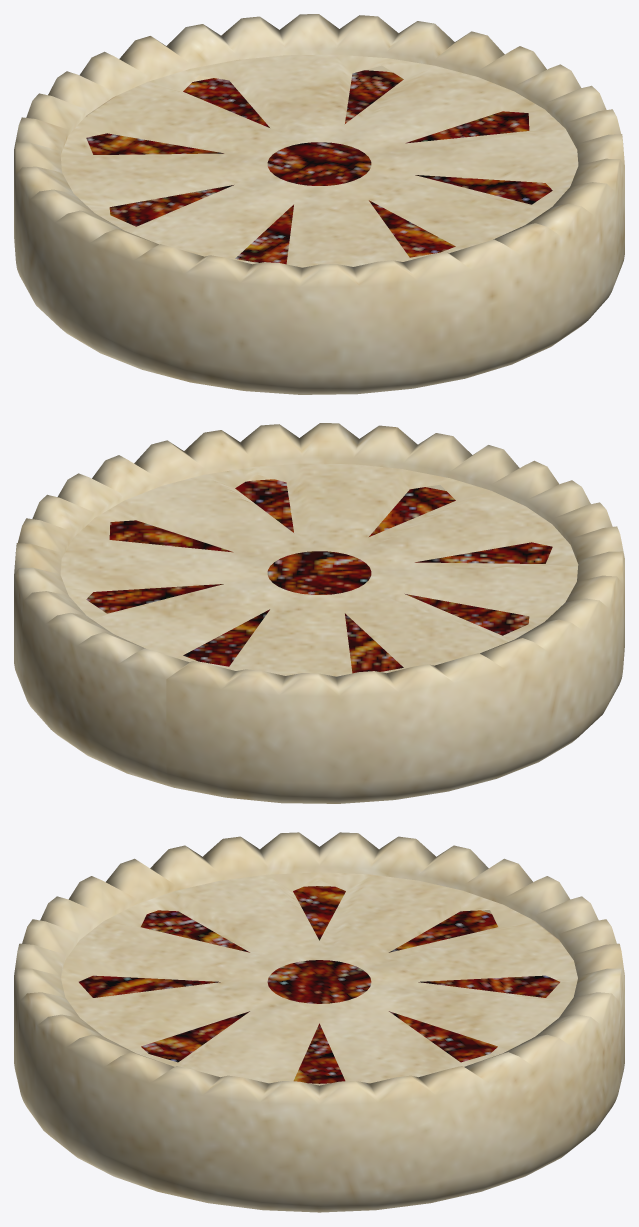
The model's file is VFX_WholePieDiamond.fbx.
3 renders of one model, top to bottom at view 1: azimuth 30°, elevation 25°; view 2: azimuth 150°, elevation 25°; view 3: azimuth 270°, elevation 25°, orthographic.
Visible parts, largest first — view 1: Pie Whole Diamonds; view 2: Pie Whole Diamonds; view 3: Pie Whole Diamonds.
Part boxes in pixels (x1=…): Pie Whole Diamonds: x1=14, y1=14, x2=624, y2=394; Pie Whole Diamonds: x1=14, y1=423, x2=624, y2=803; Pie Whole Diamonds: x1=14, y1=832, x2=624, y2=1212.
Size of the model in its own units: 0.2159 by 0.0516 by 0.2159.
